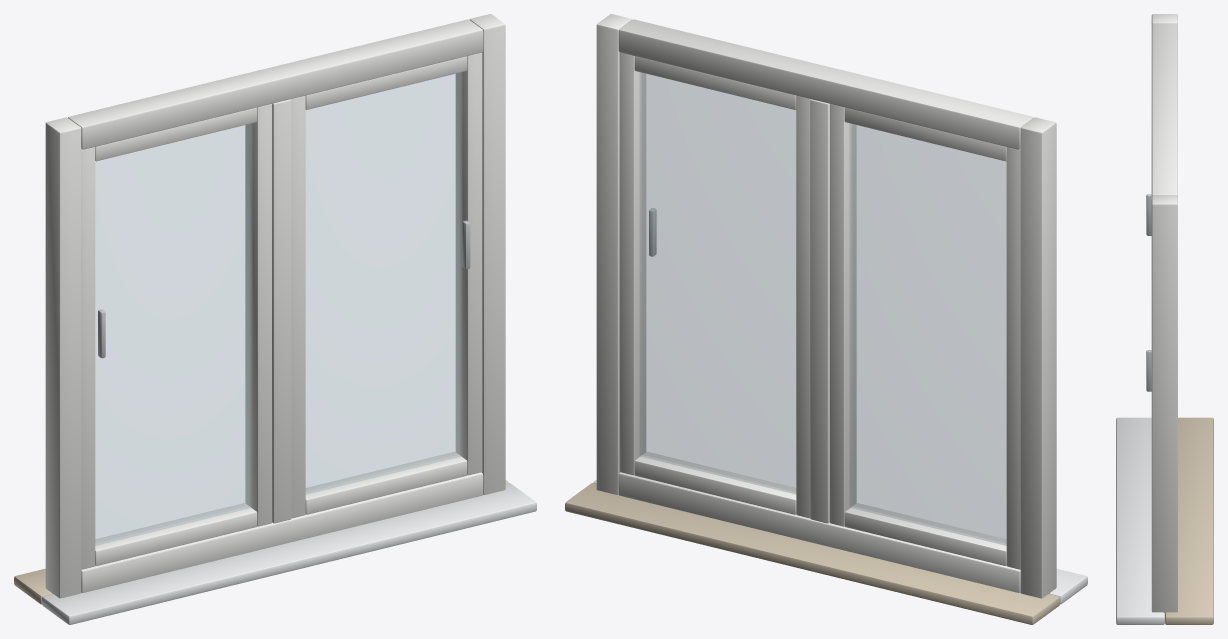
File: window_2.glb
The picture shows the model from 3 angles, left to right: view 1: azimuth 30°, elevation 25°; view 2: azimuth 150°, elevation 25°; view 3: azimuth 270°, elevation 25°; orthographic projection. The views are drawn at different scales.
Visible parts, largest first — view 1: box.009, box.015, box, box.003, box.017, box.001, box.012, box.006, box.002, box.004, box.005, box.011 (+5 smaller); view 2: box.009, box.015, box, box.003, box.018, box.001, box.012, box.006, box.002, box.004, box.005, box.011 (+5 smaller); view 3: box.001, box.017, box.018, box.003, box, box.010, box.016.
Boxes of the visible parts, box(x1,y1,x2,y2) form: box.009: box(95, 124, 251, 545); box.015: box(306, 72, 461, 494); box: box(45, 117, 81, 598); box.003: box(68, 19, 483, 149); box.017: box(42, 483, 536, 624); box.001: box(469, 14, 505, 494); box.012: box(455, 52, 482, 475); box.006: box(245, 104, 271, 526); box.002: box(81, 472, 483, 592); box.004: box(272, 99, 291, 523); box.005: box(81, 147, 95, 569); box.011: box(291, 96, 305, 518); box.009: box(850, 124, 1006, 545); box.015: box(640, 72, 795, 494); box: box(1020, 117, 1056, 598); box.003: box(618, 19, 1033, 149); box.018: box(565, 483, 1059, 624); box.001: box(596, 14, 632, 494); box.012: box(619, 52, 646, 475); box.006: box(830, 104, 856, 526); box.002: box(618, 472, 1020, 592); box.004: box(810, 99, 829, 523); box.005: box(1006, 147, 1020, 569); box.011: box(796, 96, 810, 518); box.001: box(1151, 195, 1177, 612); box.017: box(1116, 417, 1164, 624); box.018: box(1165, 417, 1213, 624); box.003: box(1151, 23, 1177, 196); box: box(1151, 14, 1177, 24); box.010: box(1146, 194, 1151, 235); box.016: box(1146, 350, 1151, 391).
Size of the model in its own units: 126 by 122 by 26.
